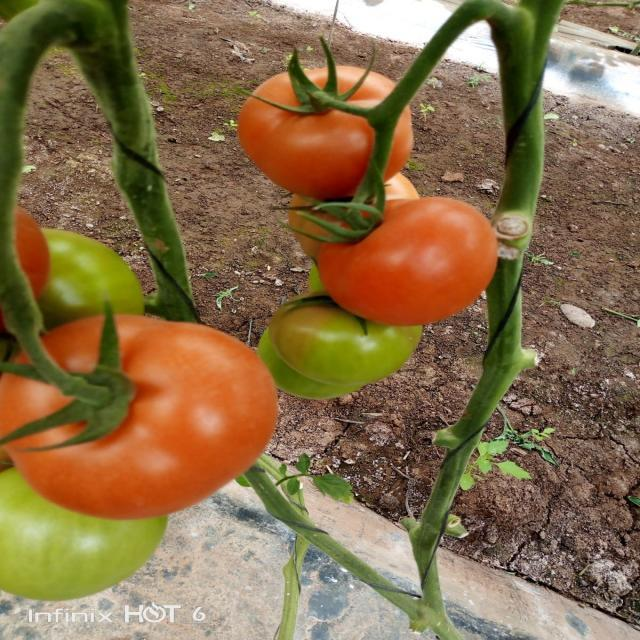Ripe Tomato: (0, 322, 280, 512), (232, 46, 429, 186), (317, 204, 507, 312)
Unripe Tomato: (0, 482, 176, 604), (0, 226, 173, 314), (270, 298, 414, 384)
